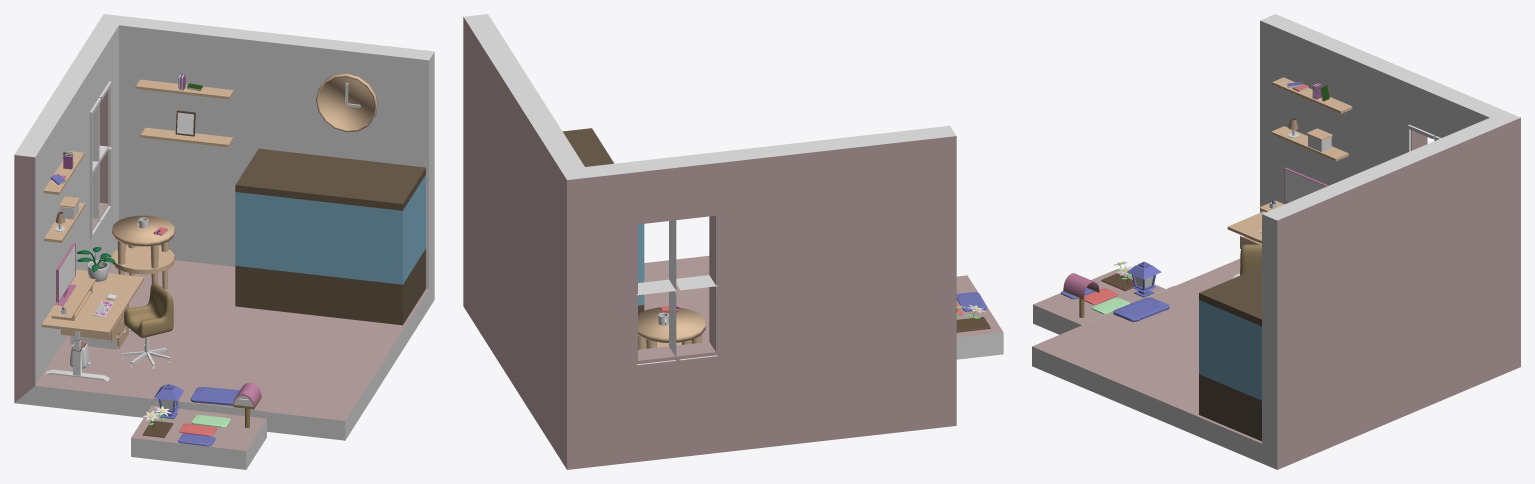
The model's file is finalee.glb.
3 views of the same model, side by side, from view 1: azimuth 30°, elevation 25°; view 2: azimuth 150°, elevation 25°; view 3: azimuth 270°, elevation 25° (orthographic). The views are drawn at different scales.
Visible parts, largest first — view 1: 3D Enviroment, Cube.074, Glass, DoorStep, TableTop, Clock, Plane, TableTop.005, Cube.073, SmallTableTop, SmallTableSecondTop, TableTop.004 (+6 smaller); view 2: 3D Enviroment, Plane, DoorStep, SmallTableTop, Cube.074; view 3: 3D Enviroment, Cube.074, Glass, DoorStep, TableTop.004, CarbetMain, Plane.001, Screen, MailBox, TableTop, Cube.073.
Part boxes in pixels (<box>): 3D Enviroment: <box>14,14,434,440</box>; Cube.074: <box>235,148,425,325</box>; Glass: <box>235,175,425,284</box>; DoorStep: <box>131,405,266,469</box>; TableTop: <box>41,269,143,334</box>; Clock: <box>316,73,378,132</box>; Plane: <box>89,81,111,239</box>; TableTop.005: <box>135,79,233,147</box>; Cube.073: <box>124,282,173,337</box>; SmallTableTop: <box>112,215,174,246</box>; SmallTableSecondTop: <box>112,245,174,274</box>; TableTop.004: <box>43,151,85,242</box>; 3D Enviroment: <box>463,14,956,469</box>; Plane: <box>636,215,717,365</box>; DoorStep: <box>956,275,1003,359</box>; SmallTableTop: <box>638,307,705,342</box>; Cube.074: <box>562,128,644,313</box>; 3D Enviroment: <box>1032,14,1520,469</box>; Cube.074: <box>1199,266,1261,441</box>; Glass: <box>1199,300,1261,400</box>; DoorStep: <box>1033,269,1165,334</box>; TableTop.004: <box>1271,77,1352,161</box>; CarbetMain: <box>1113,297,1169,321</box>; Plane.001: <box>1126,261,1161,297</box>; Screen: <box>1285,169,1325,202</box>; MailBox: <box>1063,273,1099,317</box>; TableTop: <box>1227,211,1265,243</box>; Cube.073: <box>1240,244,1261,275</box>.
Size of what is drawn, in the model's own units: 27.84 by 16.02 by 27.84.
